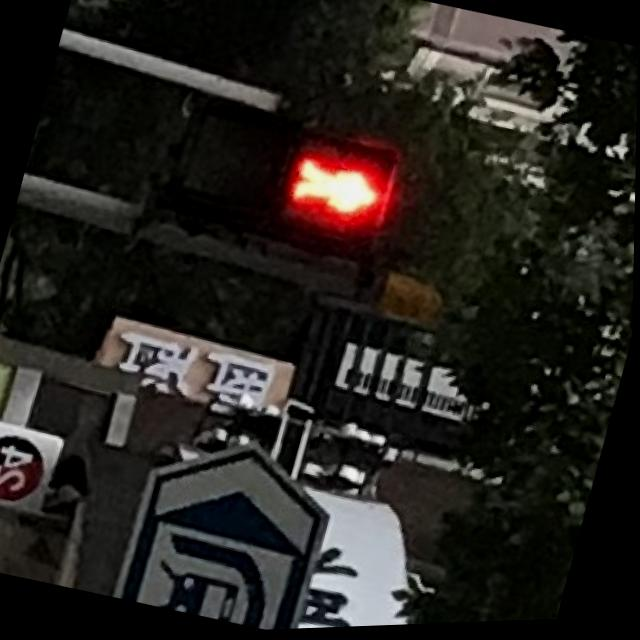red_light: (275, 134, 400, 252)
